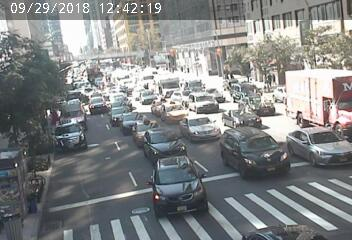car: (283, 66, 352, 115), (150, 163, 199, 220), (223, 133, 273, 173), (287, 135, 345, 162), (55, 124, 90, 153), (147, 130, 185, 154), (158, 102, 190, 127), (243, 91, 275, 113), (60, 104, 88, 128), (179, 117, 212, 136), (225, 112, 262, 127), (155, 75, 184, 92), (123, 112, 145, 133), (184, 78, 209, 93), (110, 106, 132, 122), (135, 88, 158, 103), (188, 94, 214, 107), (232, 81, 257, 94), (138, 120, 160, 134), (89, 91, 102, 108), (107, 101, 127, 110), (107, 91, 124, 101)
